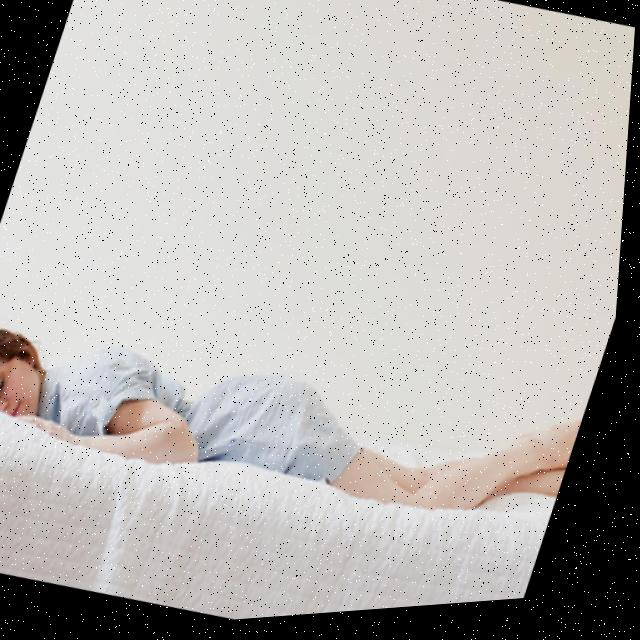sleeping-person: (0, 159, 630, 606)
